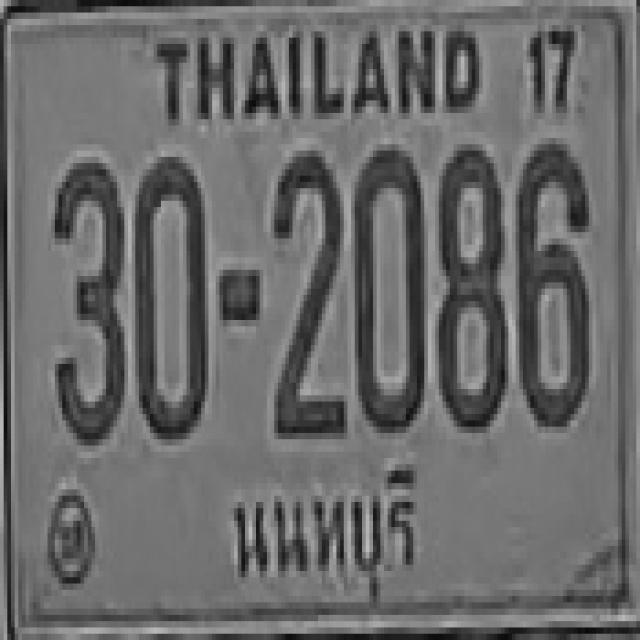0: (134, 154, 206, 436), (353, 147, 422, 430)
2: (272, 147, 342, 430)
3: (52, 157, 125, 439)
6: (516, 138, 588, 427)
8: (435, 144, 505, 427)
Nonthaburi: (224, 450, 422, 611)
